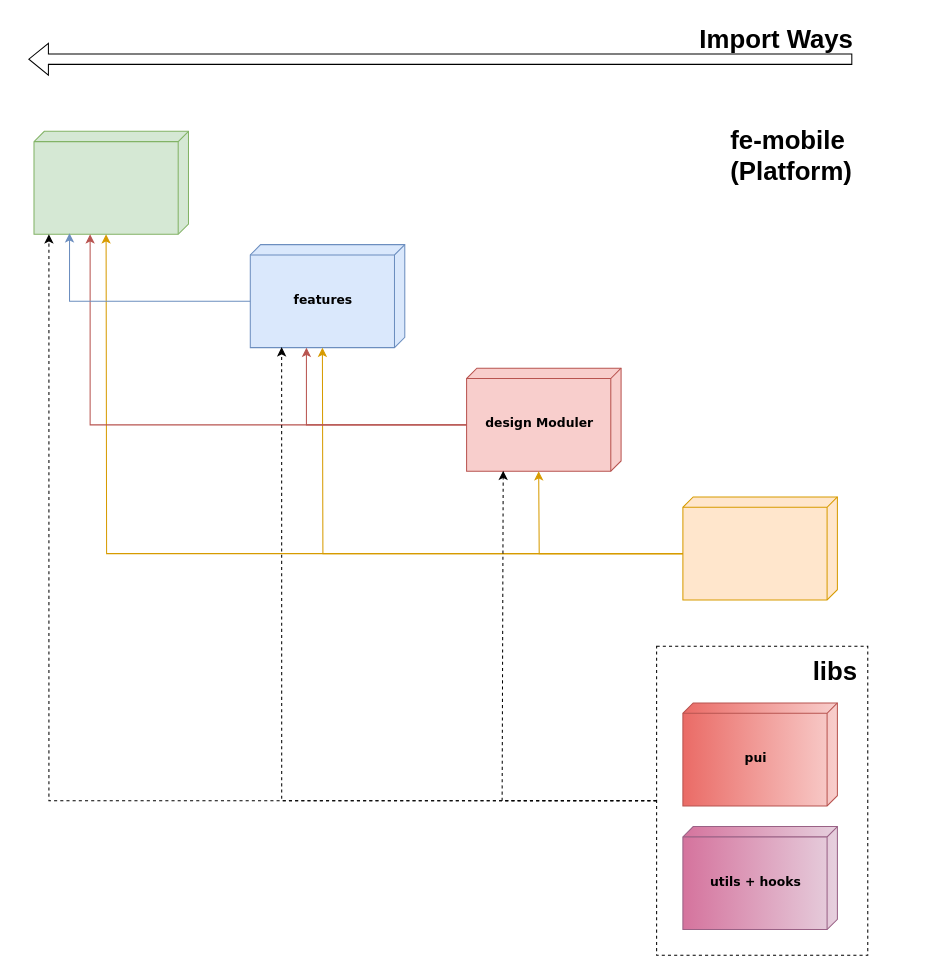
Image size: 952x973. Some labels were removed from this diagram. Each missing label, with the box of its shape:
apps: (33, 130, 188, 234)
shared: (682, 496, 837, 600)
